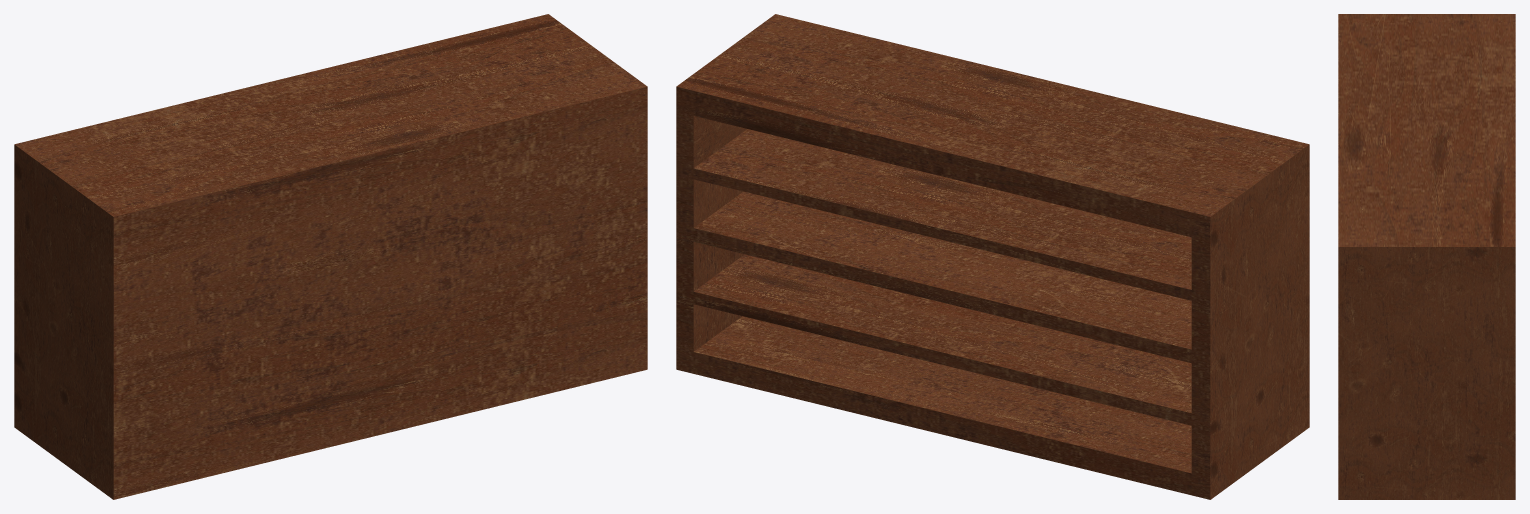
The model's file is tudo.fbx.
3 views of the same model, side by side, from view 1: azimuth 30°, elevation 25°; view 2: azimuth 150°, elevation 25°; view 3: azimuth 270°, elevation 25° (orthographic). The views are drawn at different scales.
Visible parts, largest first — view 1: Cube; view 2: Cube; view 3: Cube.
Boxes of the visible parts, x1=… form: Cube: x1=14, y1=14, x2=647, y2=499; Cube: x1=676, y1=14, x2=1309, y2=499; Cube: x1=1338, y1=14, x2=1515, y2=499.
Bounding box in the file's own units: 3328 × 1685 × 1071.
